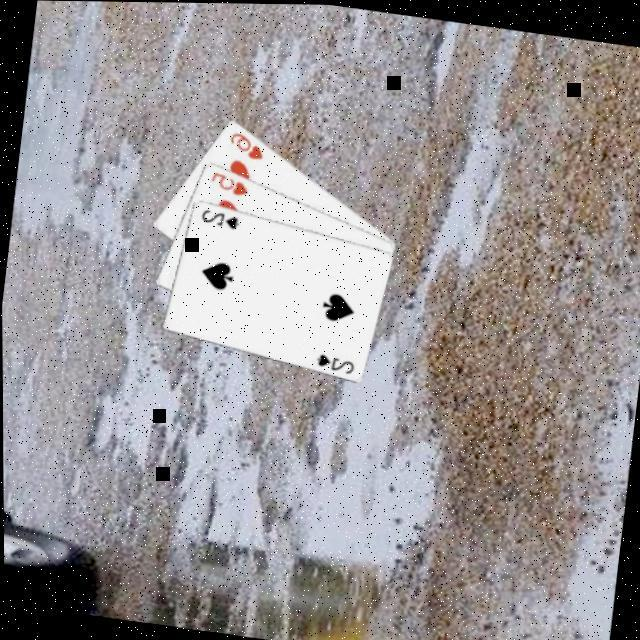2S: (196, 202, 242, 230), (310, 346, 356, 374)
5H: (204, 164, 251, 196)
6H: (223, 125, 266, 161)
